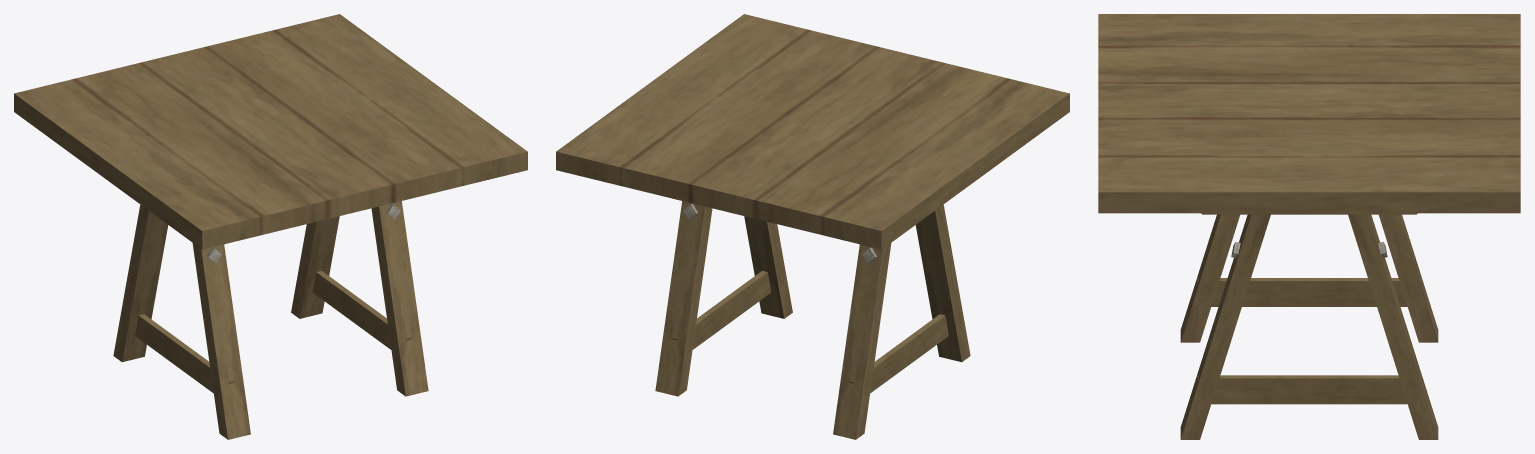
File: table01.glb
3 views of the same model, side by side, from view 1: azimuth 30°, elevation 25°; view 2: azimuth 150°, elevation 25°; view 3: azimuth 270°, elevation 25° (orthographic). The views are drawn at different scales.
Visible parts, largest first — view 1: table01; view 2: table01; view 3: table01.
Boxes of the visible parts, x1=… form: table01: x1=14, y1=14, x2=527, y2=439; table01: x1=556, y1=14, x2=1069, y2=439; table01: x1=1098, y1=14, x2=1520, y2=439.
Size of the model in its own units: 1.1 by 0.81 by 1.1.
2 materials, 2 textured.
